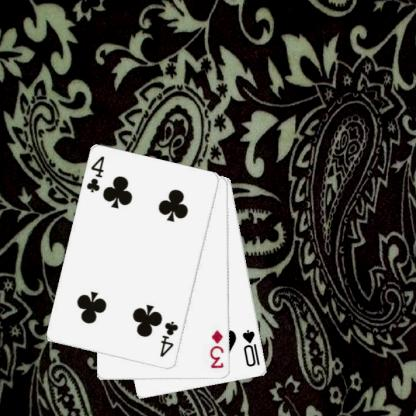10S: (240, 327, 262, 368)
3D: (208, 328, 226, 370)
4C: (84, 154, 106, 194), (158, 319, 179, 359)
